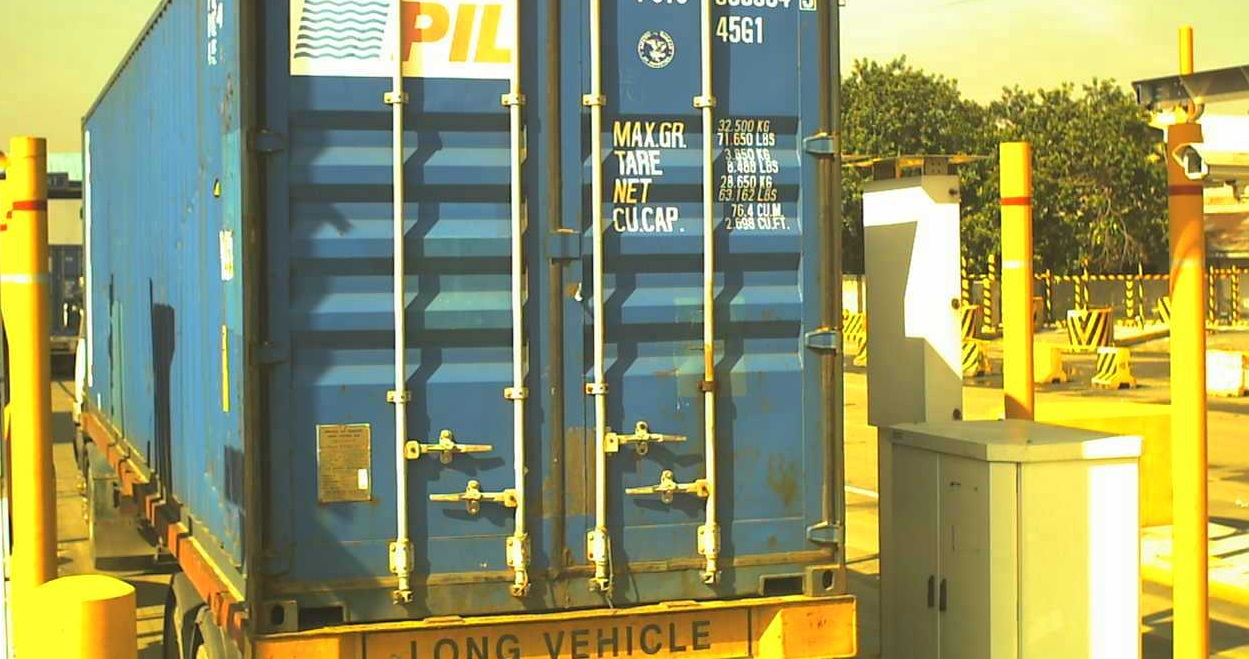container_door: (249, 1, 846, 636)
